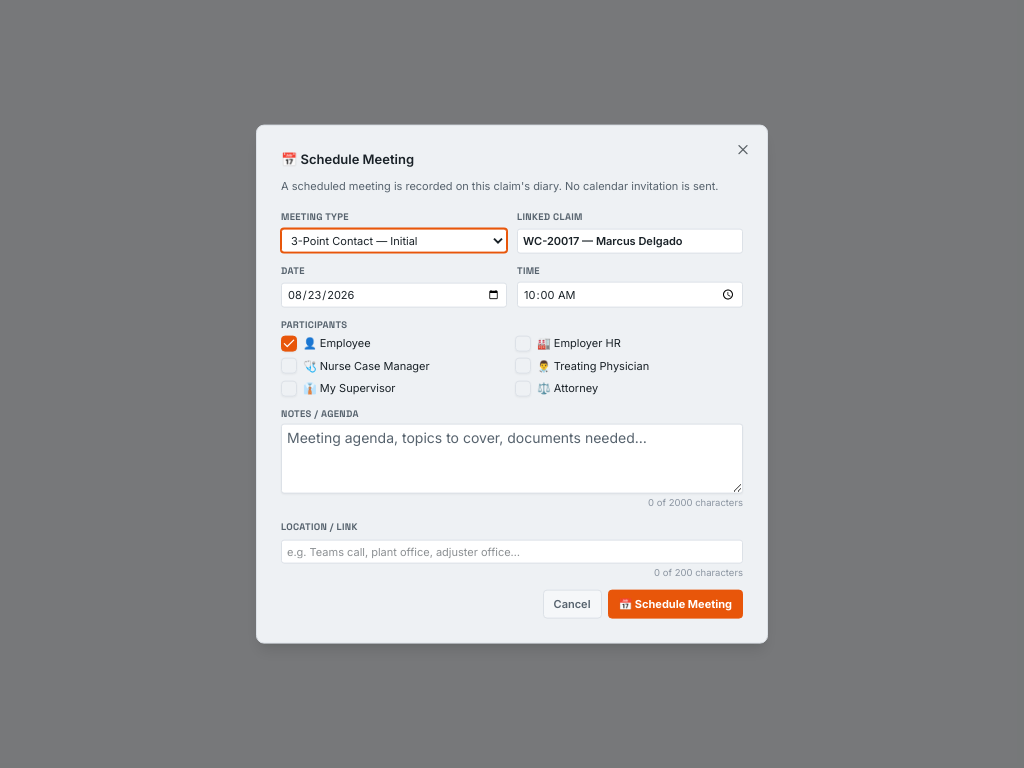
Cancel goes through the close path that clears the refusal
Clear the date field with test id "scheduler-date": (394, 295) [281, 283, 507, 307]
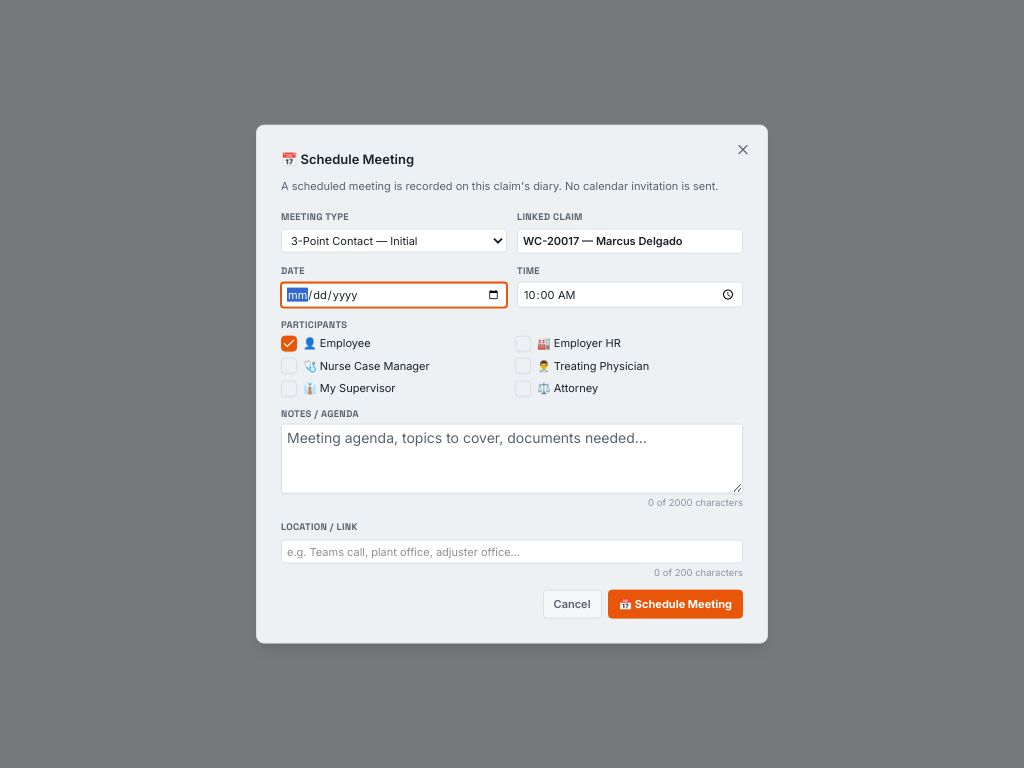
Click the button with test id "scheduler-save": (675, 604) [608, 590, 743, 618]
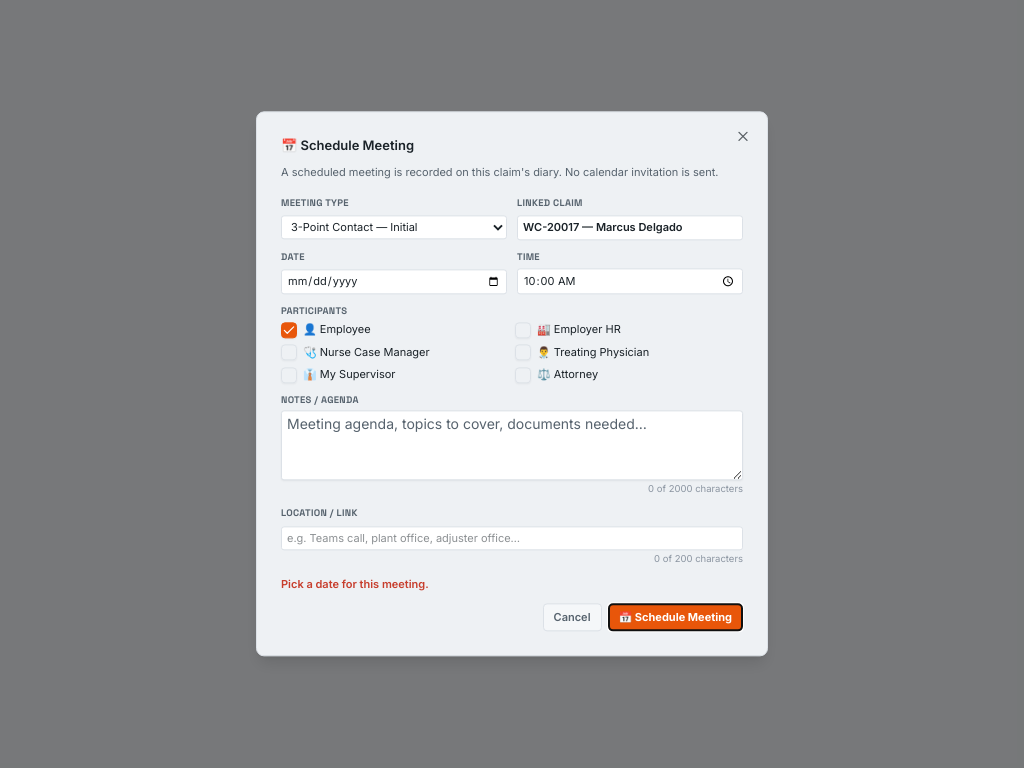
Check: the message "Pick a date for this meeting." is shown, box [281, 578, 429, 592]
Click the button with test id "scheduler-cancel": (572, 617) [543, 603, 602, 632]
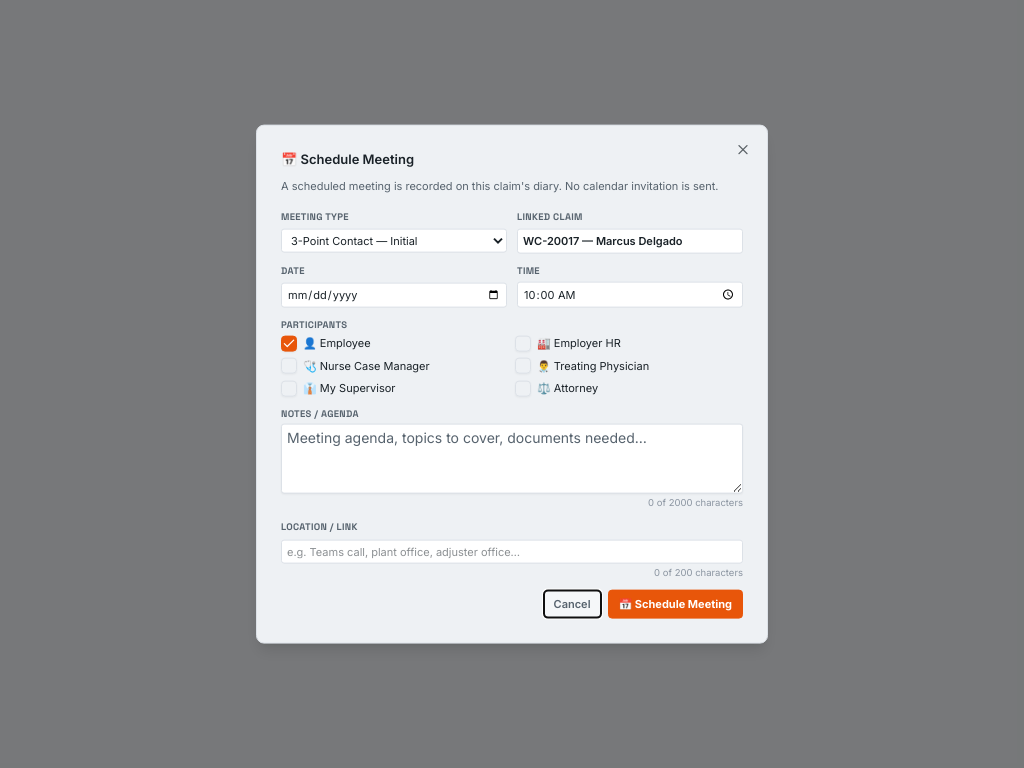
Check: the message with test id "scheduler-error" is gone
